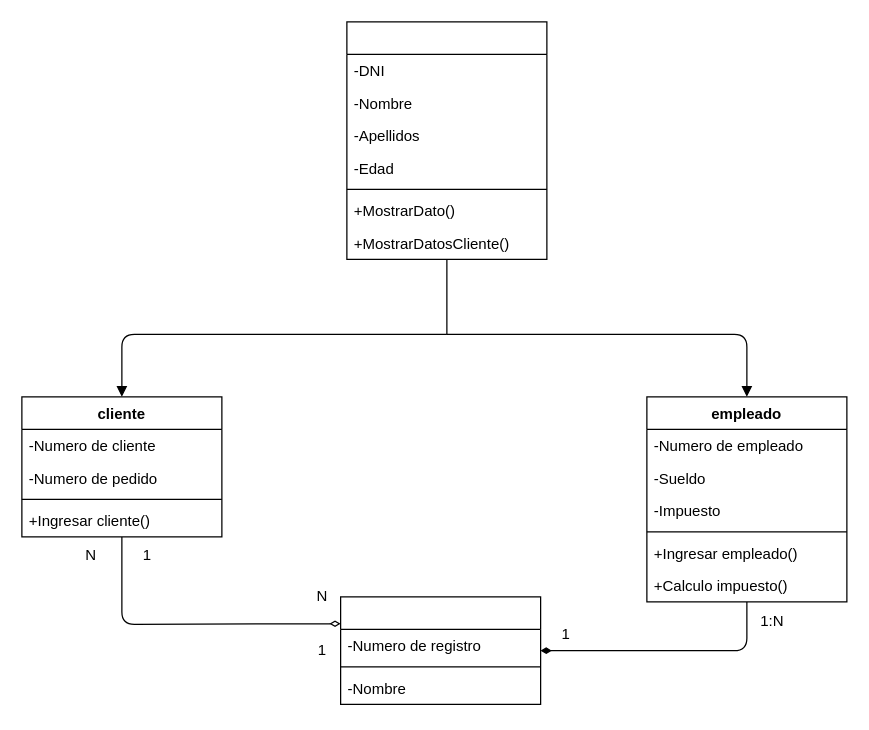
Image size: 869x730. Some labels were removed from this diagram. Each missing label, with the box of its shape:
empresa: (339, 596, 541, 704)
persona: (346, 21, 547, 259)
